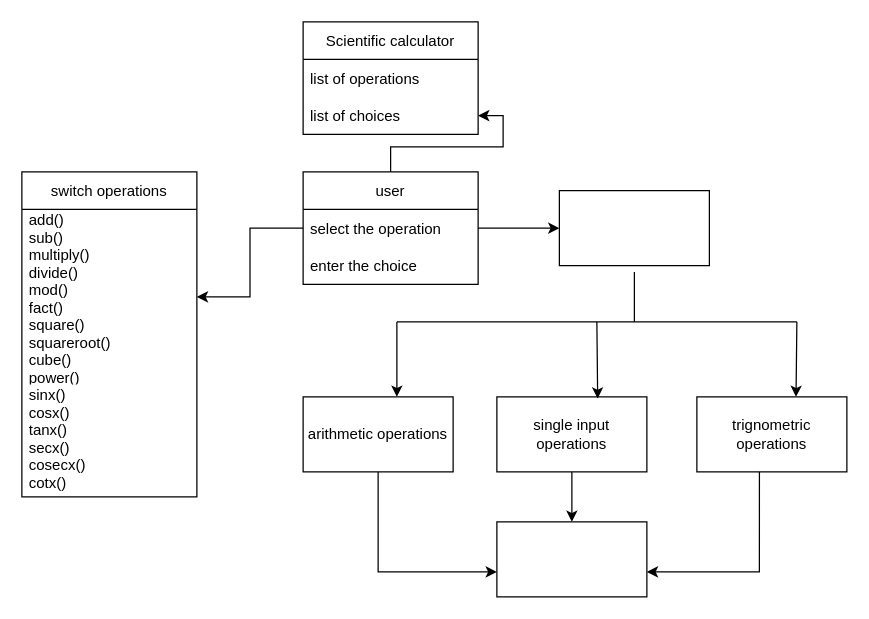
This 869x619 diagram has some shape labels left out. The shapes that lost their labels are listed below. From the top down, each one's centre as x and y in pixels, then its label:
[633,227]: perform the operation
[571,559]: display the opertaions
